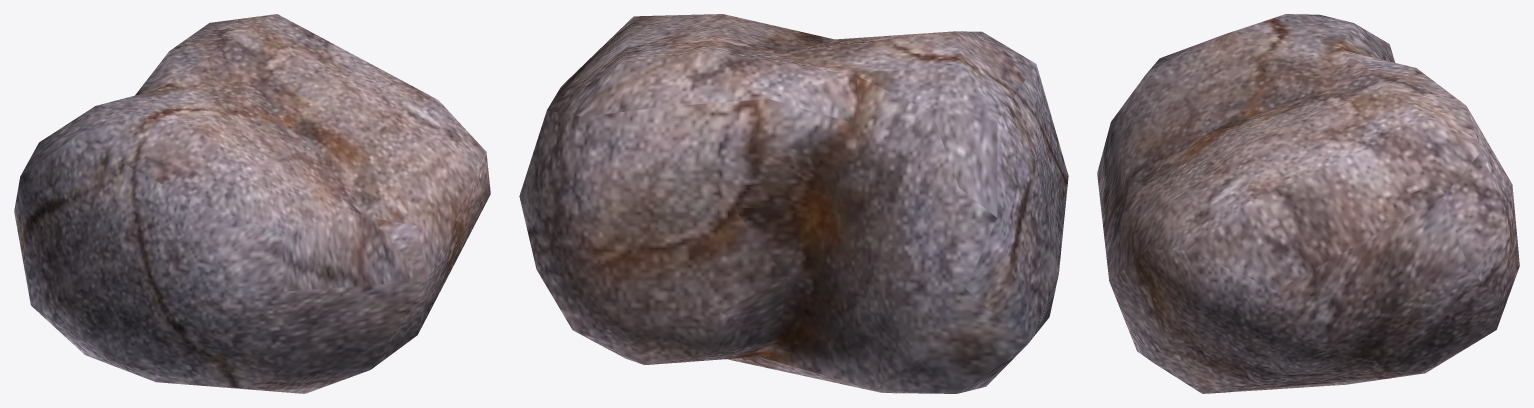
File: rock064.glb
The picture shows the model from 3 angles, left to right: view 1: azimuth 30°, elevation 25°; view 2: azimuth 150°, elevation 25°; view 3: azimuth 270°, elevation 25°; orthographic projection. The views are drawn at different scales.
Visible parts, largest first — view 1: rock064; view 2: rock064; view 3: rock064.
Boxes of the visible parts, bbox=[...] form: rock064: bbox=[14, 14, 490, 393]; rock064: bbox=[519, 14, 1068, 393]; rock064: bbox=[1097, 14, 1519, 393].
Bounding box in the file's own units: 0.9845 × 0.6564 × 0.8356.
Materials: 1 (1 with a texture image).
